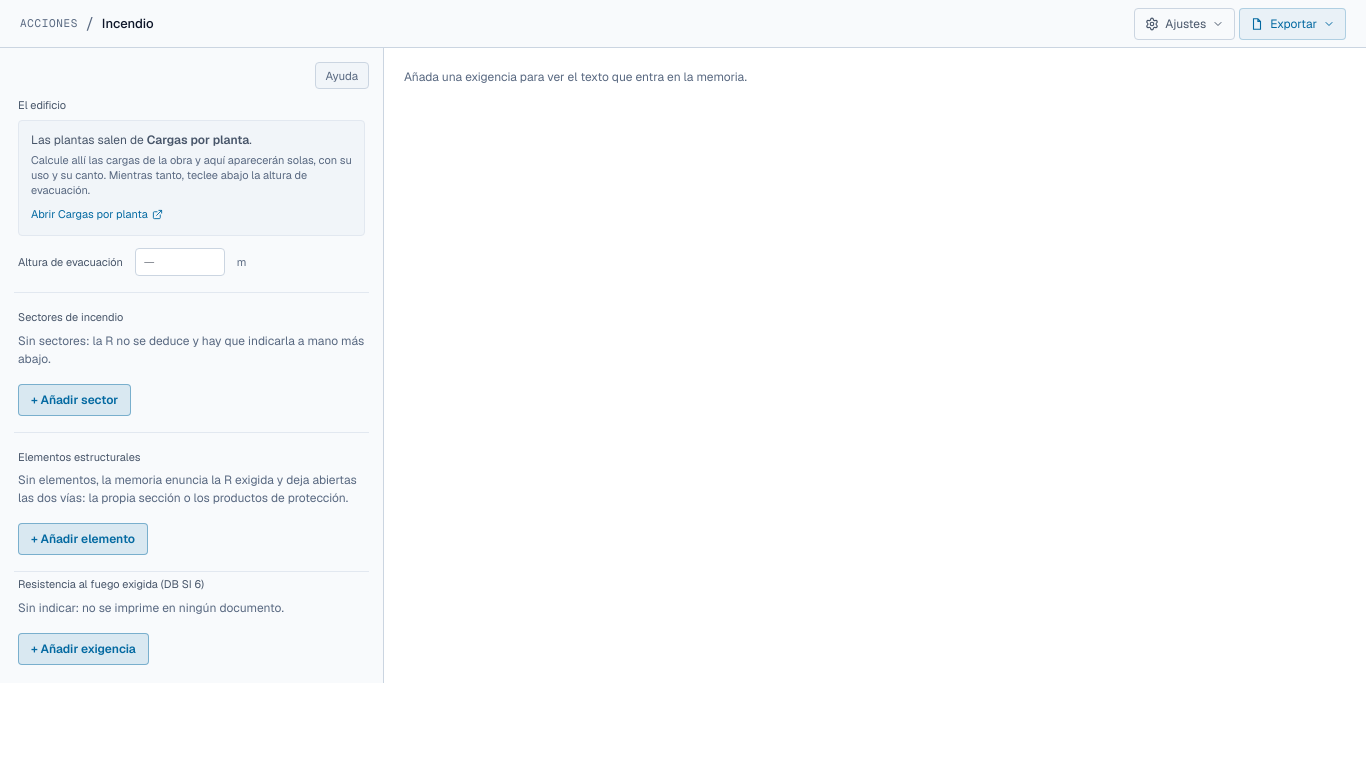
Test: los sectores, de la tabla 3.1 a la pantalla › y subir el edificio por encima de 28 m cambia de columna
Type "12" into the number field named "Altura de evacuación del edificio" at (180, 262), box [135, 248, 225, 276]
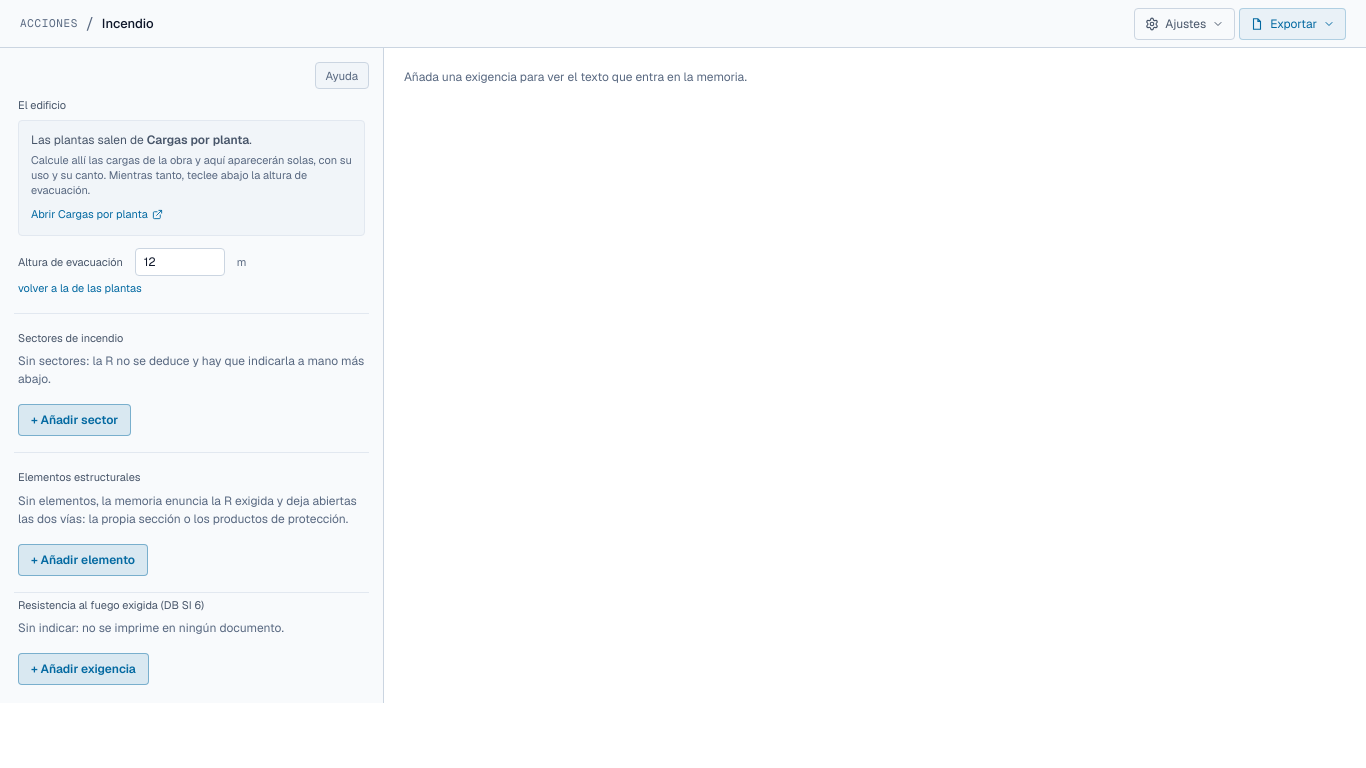
Click the button "+ Añadir sector" at (75, 420), box [18, 404, 131, 436]
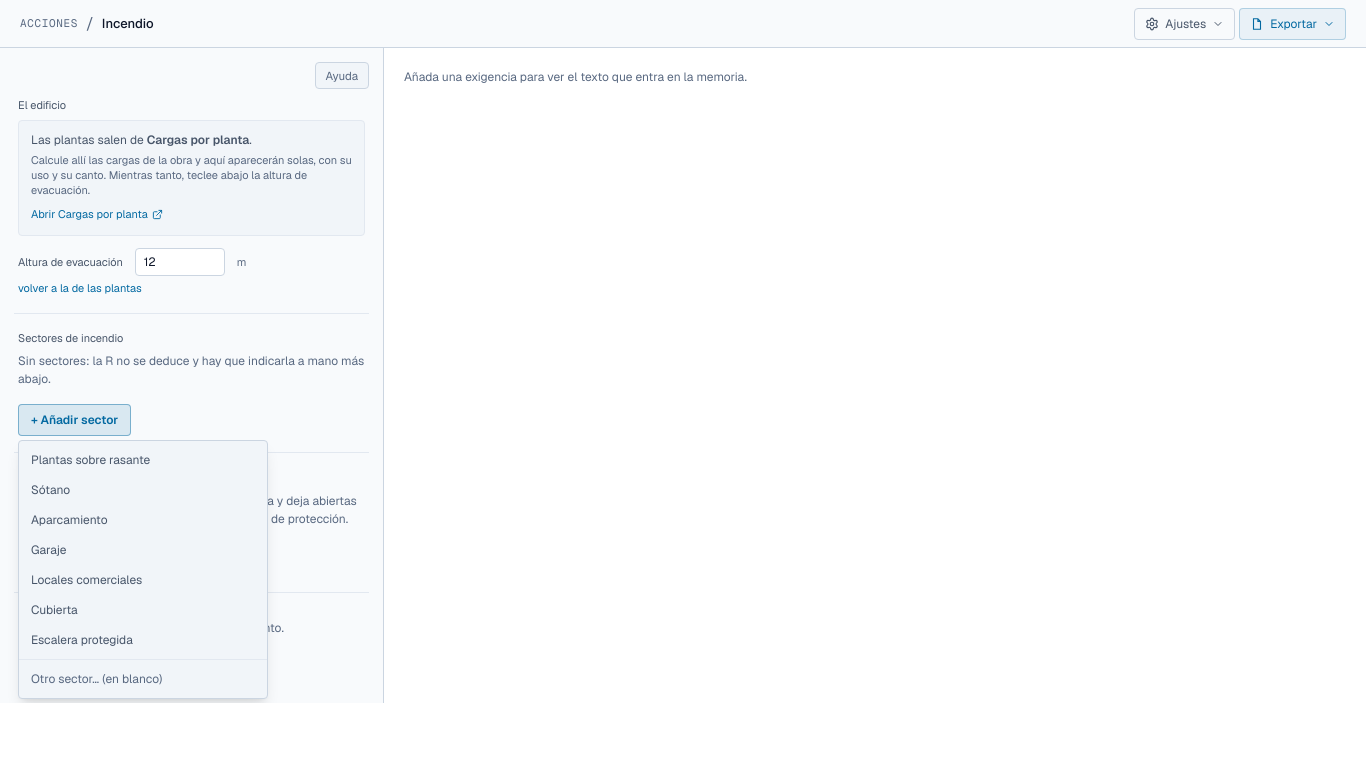
Click the menu item "Plantas sobre rasante" at (143, 460), box [19, 445, 267, 475]
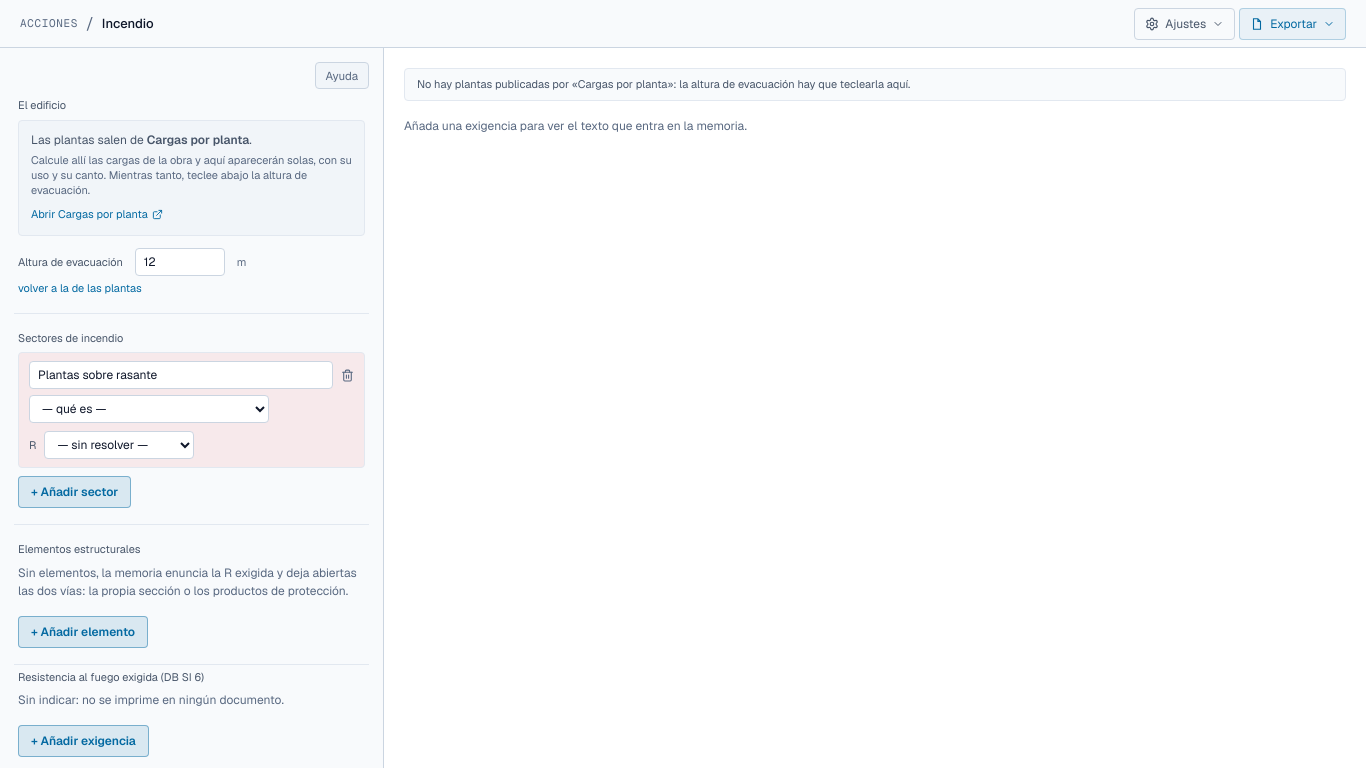
Select "Residencial Vivienda" in the dropdown named "Qué es Plantas sobre rasante" at (149, 409), box [29, 395, 269, 423]
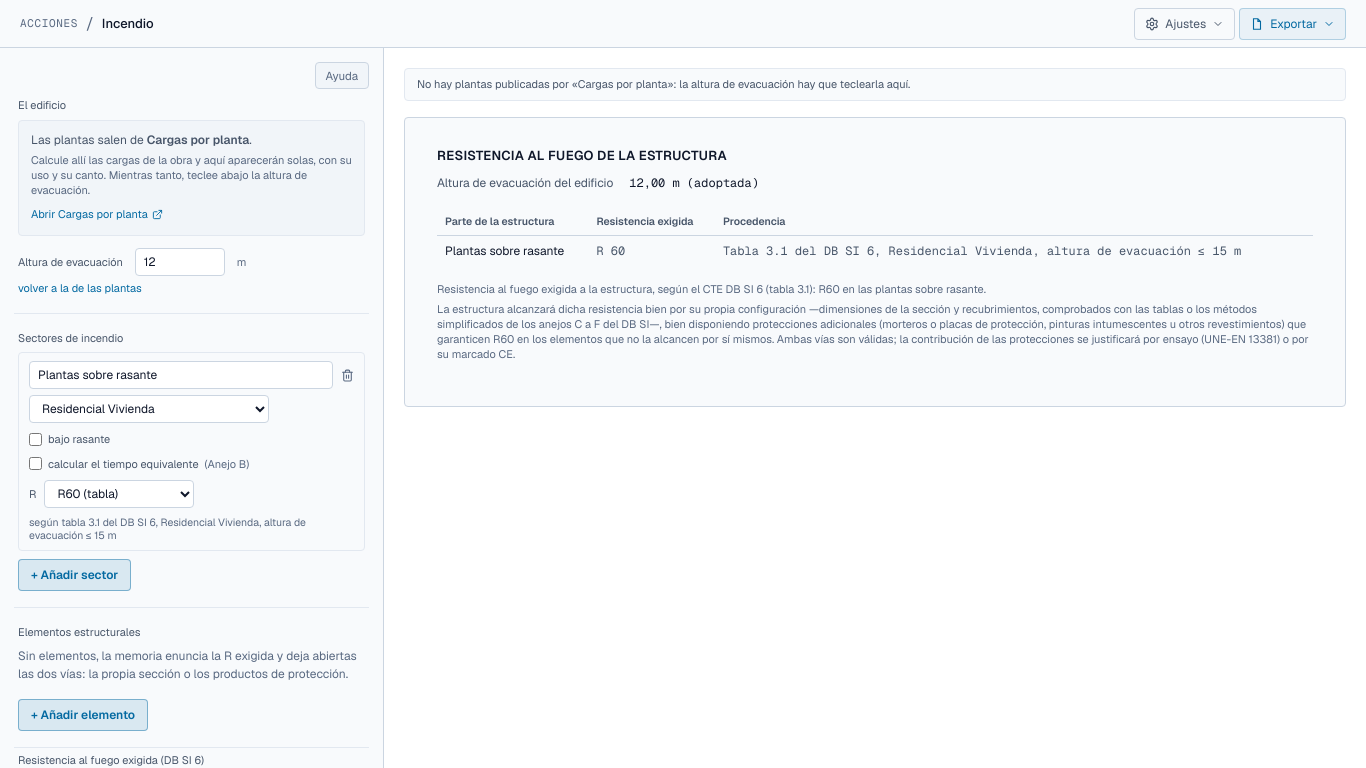
Expected: the list item "R60 en las plantas sobre rasante" is shown, [437, 282, 986, 296]
Replace the text in the number field named "Altura de evacuación del edificio" with "35" at (180, 262), box [135, 248, 225, 276]
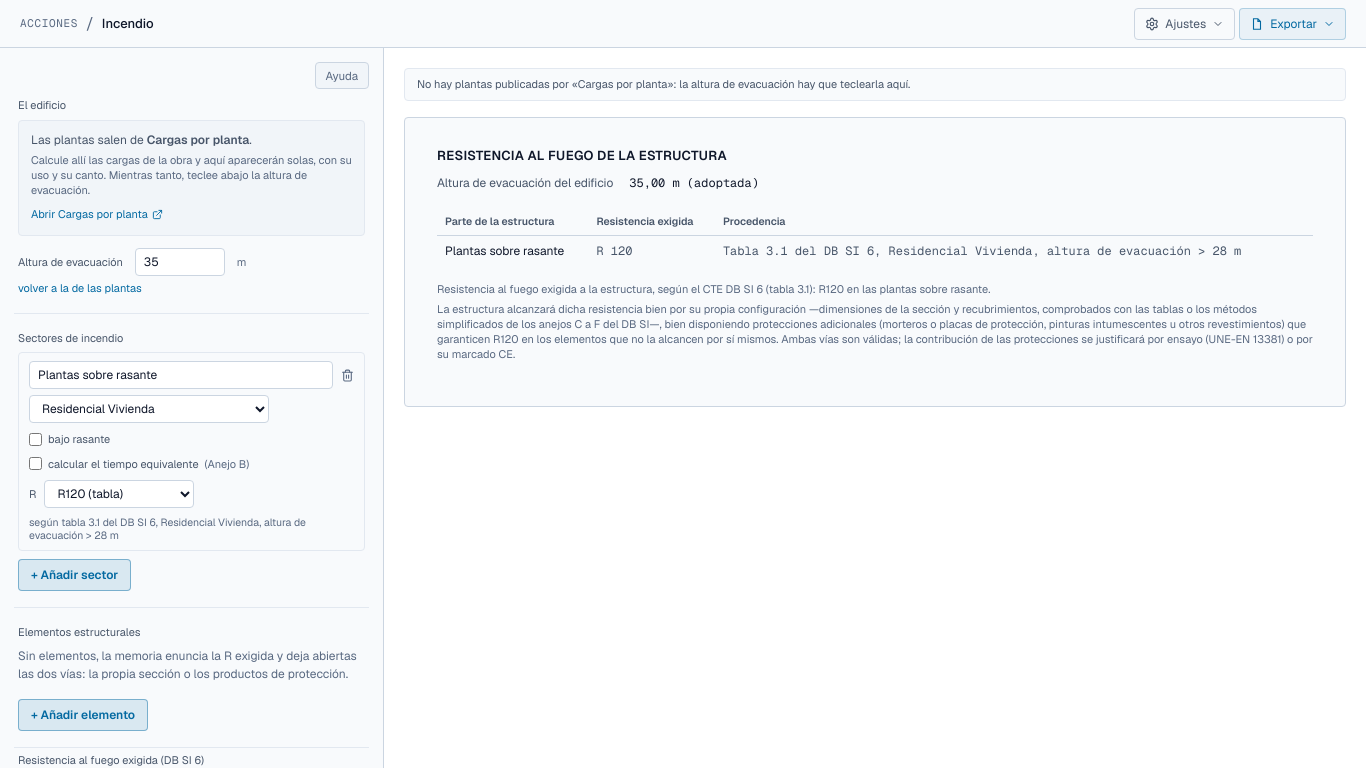
Expected: the list item "R120 en las plantas sobre rasante" is shown, [437, 282, 990, 296]
